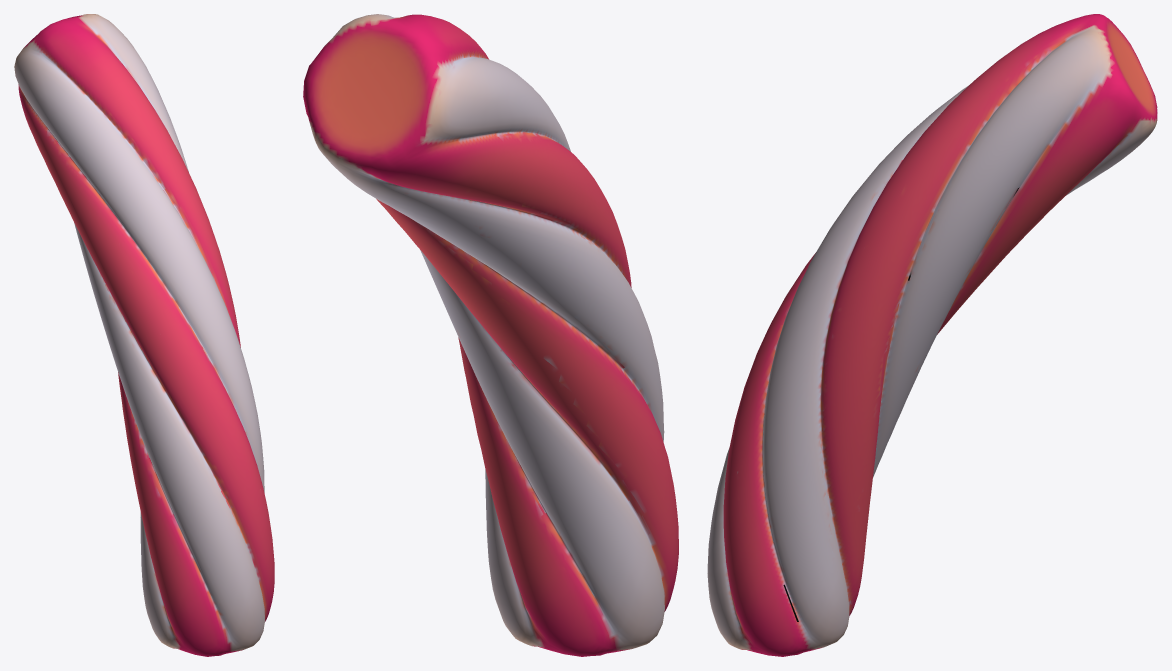
File: twister.obj
The picture shows the model from 3 angles, left to right: view 1: azimuth 30°, elevation 25°; view 2: azimuth 150°, elevation 25°; view 3: azimuth 270°, elevation 25°; orthographic projection. The views are drawn at different scales.
Parts seen in each view (by area): view 1: twister; view 2: twister; view 3: twister.
Part boxes in pixels (<box>): twister: <box>14,14,274,656</box>; twister: <box>303,14,678,656</box>; twister: <box>707,14,1157,656</box>.
Size of the model in its own units: 0.488 by 2.1 by 1.4.
1 material, 1 textured.
